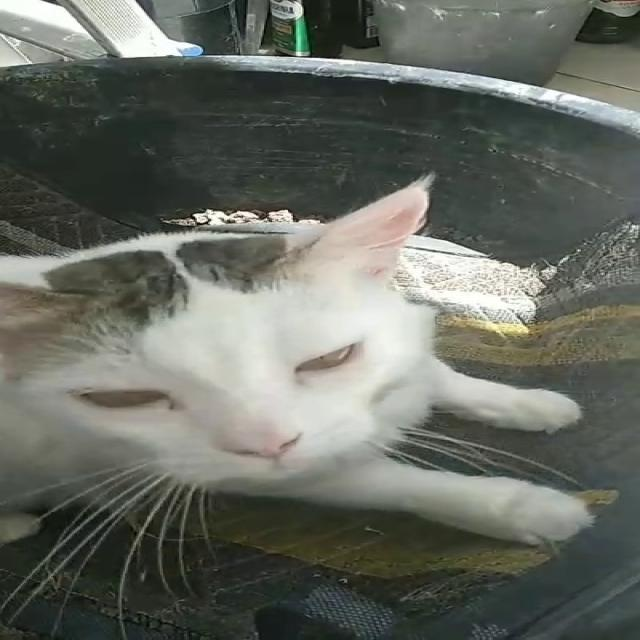Simba: (0, 167, 594, 546)
